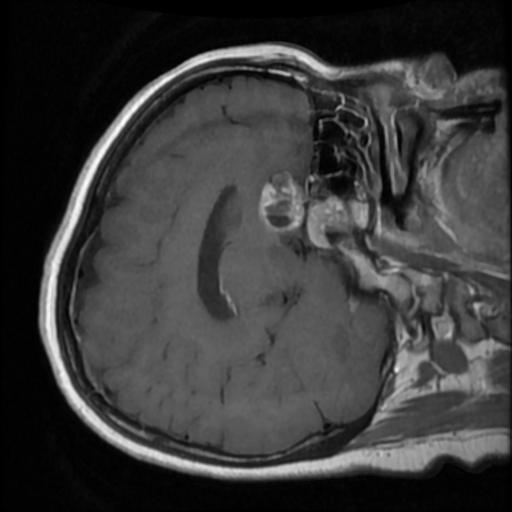pituitary tumour: (256, 173, 348, 249)
